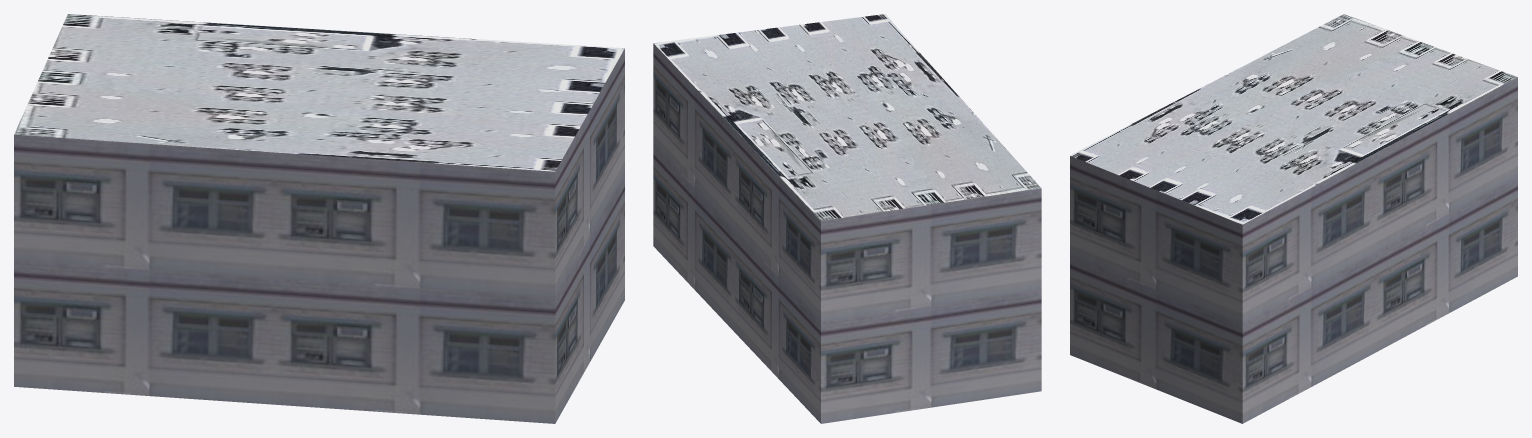
Rendered from ResTex__1398.fbx.
3 renders of one model, left to right at view 1: azimuth 30°, elevation 25°; view 2: azimuth 150°, elevation 25°; view 3: azimuth 270°, elevation 25°, orthographic. The views are drawn at different scales.
Visible parts, largest first — view 1: CityEngineMaterial_1_m, CityEngineMaterial_8_m; view 2: CityEngineMaterial_1_m, CityEngineMaterial_8_m; view 3: CityEngineMaterial_1_m, CityEngineMaterial_8_m.
Part boxes in pixels (x1,y1,x2,y2): CityEngineMaterial_1_m: [14, 48, 624, 423]; CityEngineMaterial_8_m: [14, 14, 624, 171]; CityEngineMaterial_1_m: [653, 43, 1041, 423]; CityEngineMaterial_8_m: [653, 14, 1040, 220]; CityEngineMaterial_1_m: [1070, 77, 1517, 423]; CityEngineMaterial_8_m: [1070, 14, 1517, 224].
Size of the model in its own units: 13.61 by 6 by 12.23.
2 materials, 2 textured.
